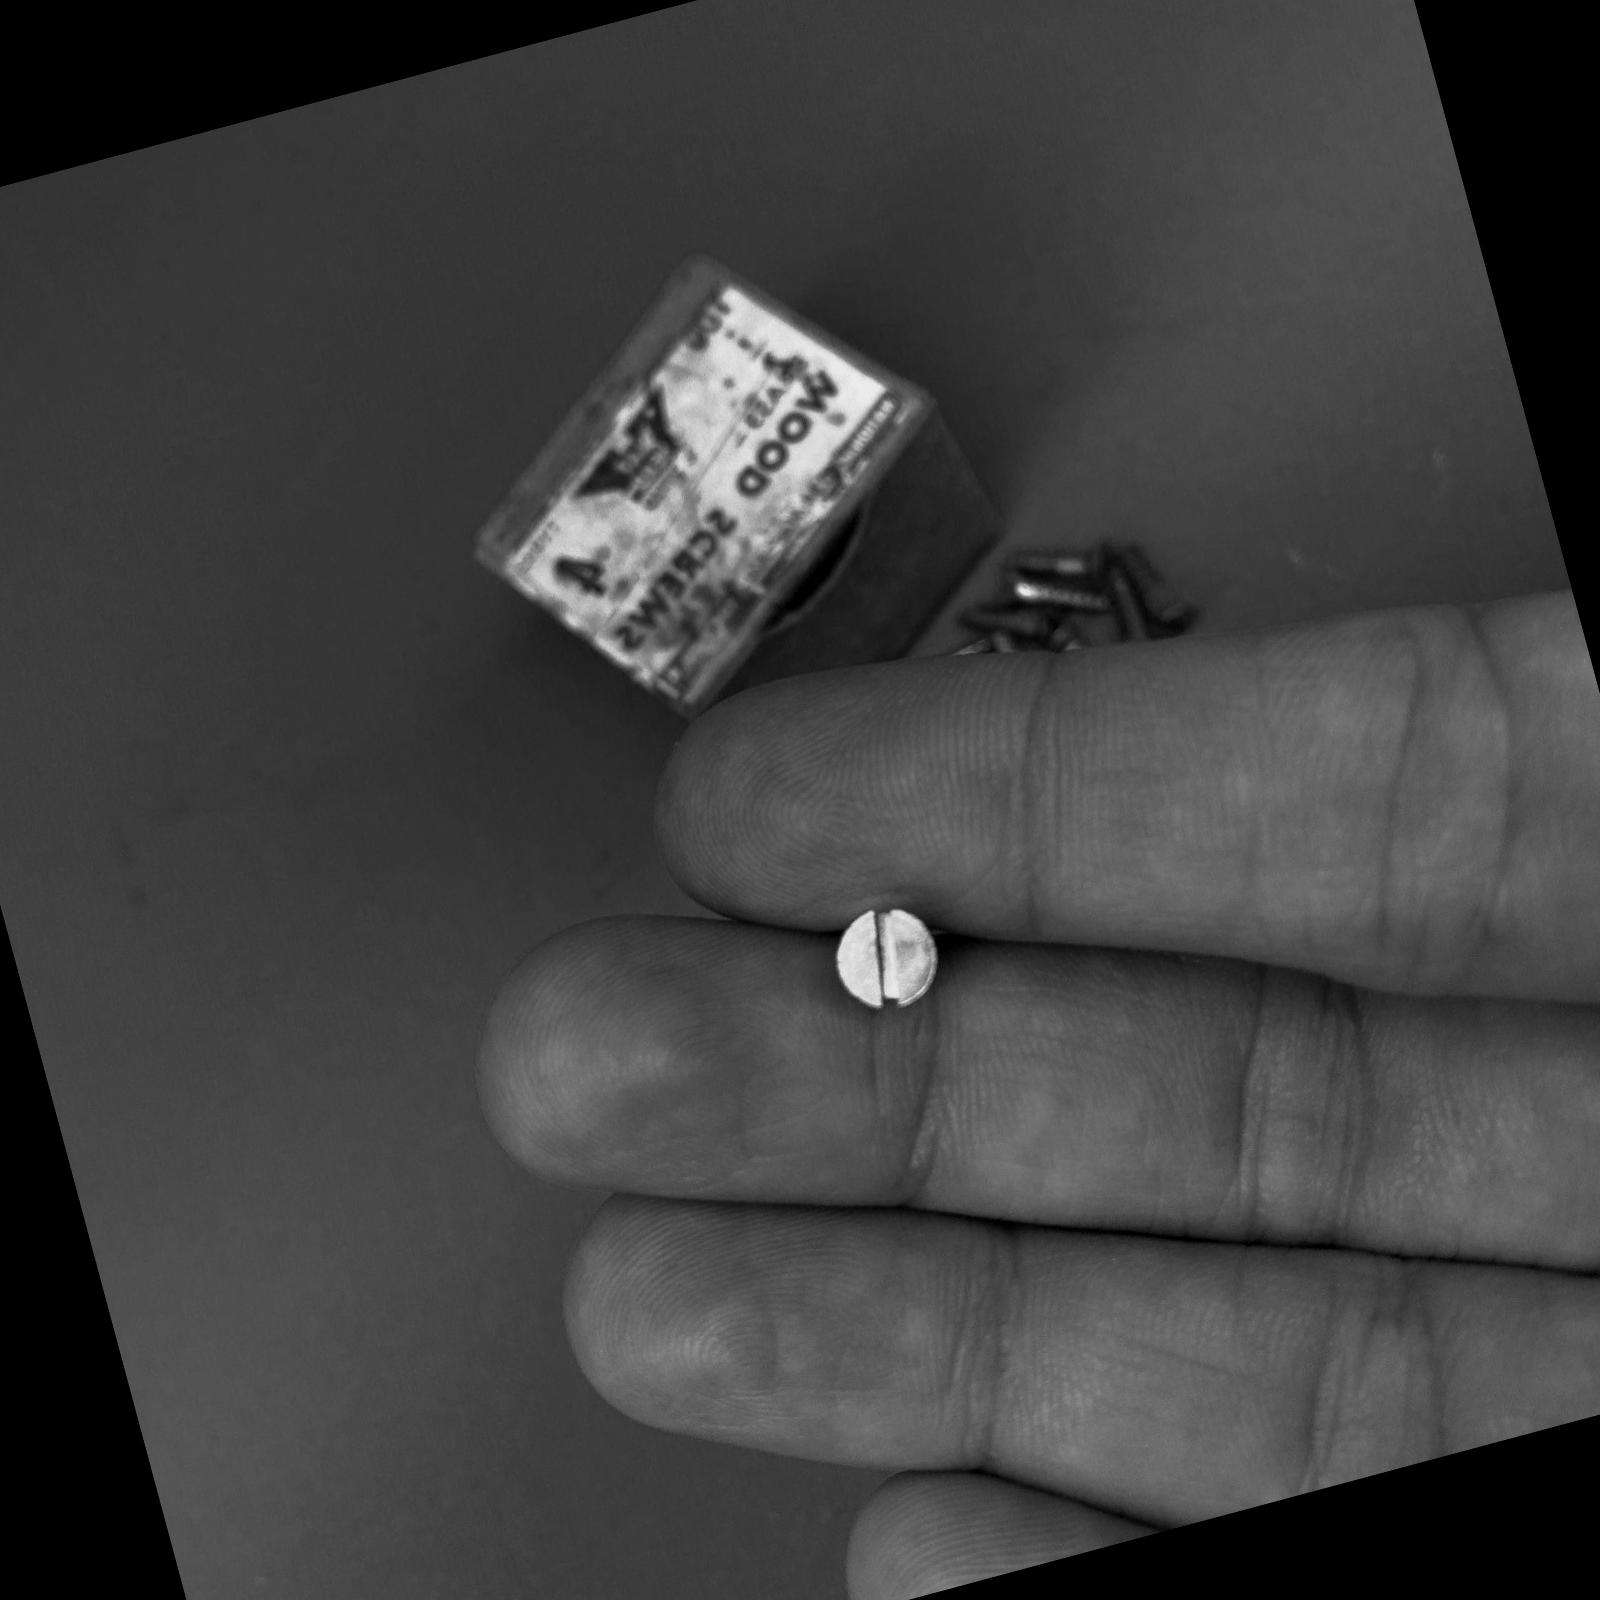slotted: (818, 875, 957, 1030)
